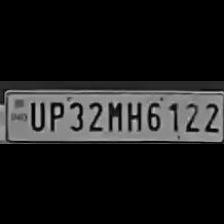1: (164, 98, 181, 132)
2: (84, 98, 104, 132), (181, 98, 199, 132), (200, 98, 218, 132)
3: (66, 97, 84, 130)
6: (144, 98, 162, 132)
H: (124, 97, 142, 131)
M: (104, 97, 124, 130)
P: (46, 98, 64, 132)
U: (26, 98, 44, 130)
